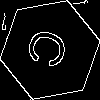C: (25, 25, 78, 75)
